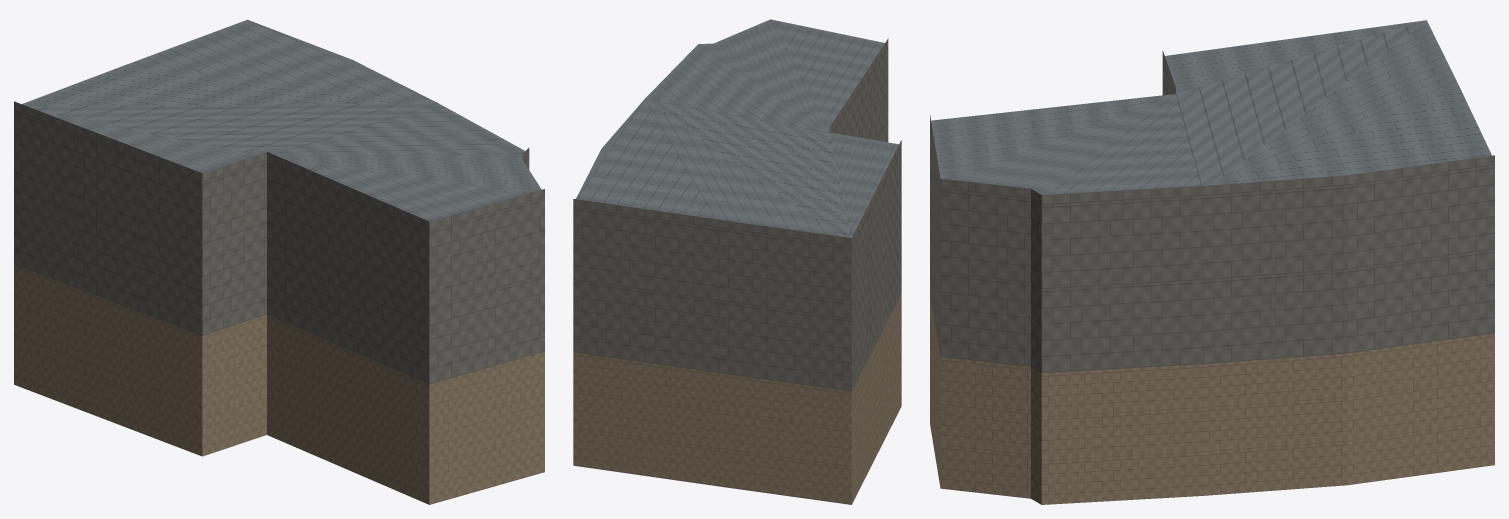
Rendered from bld_c37_-11_545.gltf.
3 renders of one model, left to right at view 1: azimuth 30°, elevation 25°; view 2: azimuth 150°, elevation 25°; view 3: azimuth 270°, elevation 25°, orthographic. The views are drawn at different scales.
Visible parts, largest first — view 1: bld_c37_-11_545; view 2: bld_c37_-11_545; view 3: bld_c37_-11_545.
Boxes of the visible parts, x1,y1,x2,y2 form: bld_c37_-11_545: [14, 19, 544, 504]; bld_c37_-11_545: [573, 19, 901, 504]; bld_c37_-11_545: [930, 20, 1494, 504].
Size of the model in its own units: 15 by 11.98 by 19.78.
Materials: 4 (4 with a texture image).
